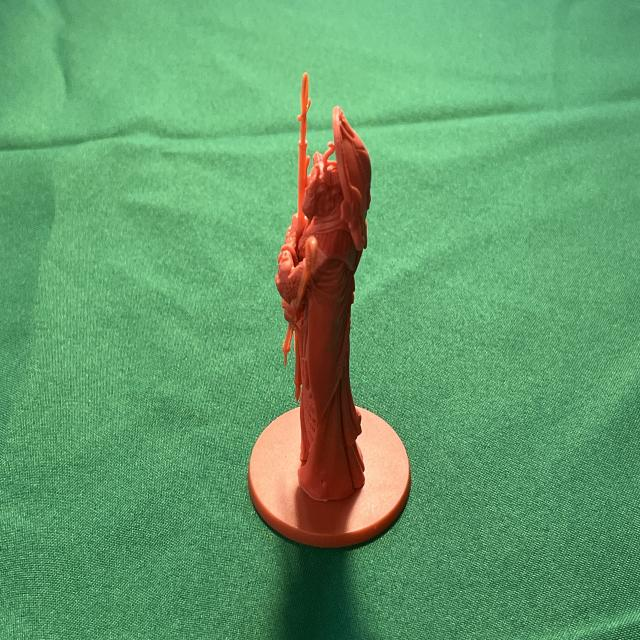amon: (246, 68, 414, 552)
